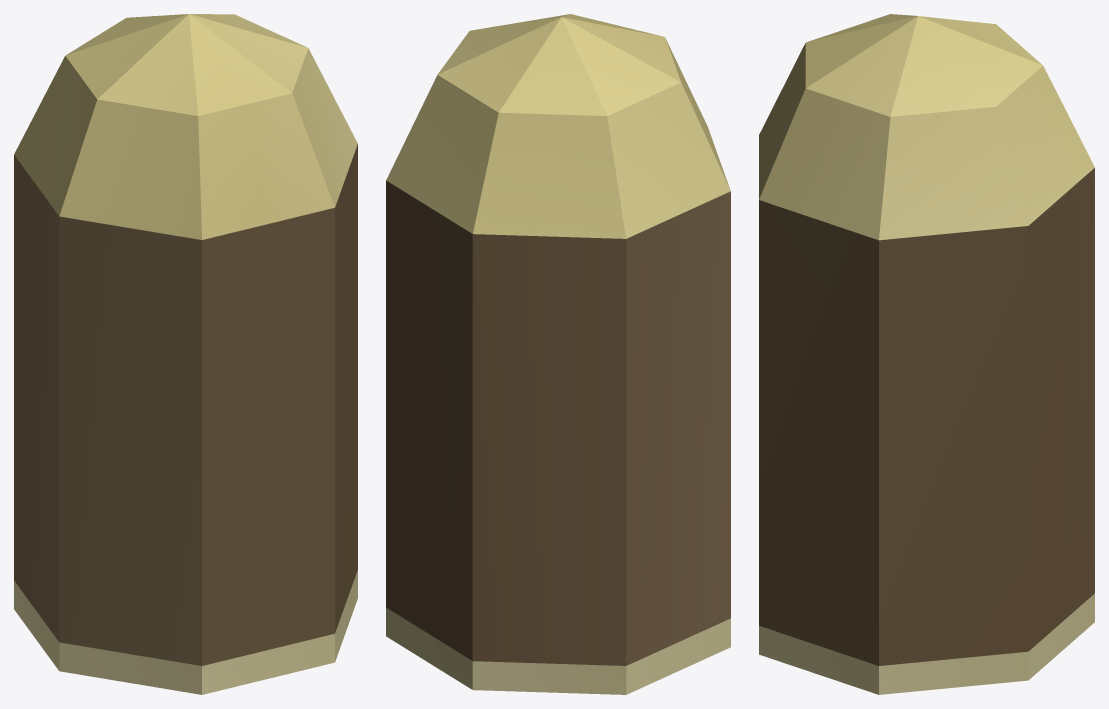
Rendered from nixie toob.fbx.
3 renders of one model, left to right at view 1: azimuth 30°, elevation 25°; view 2: azimuth 150°, elevation 25°; view 3: azimuth 270°, elevation 25°, orthographic.
Parts seen in each view (by area): view 1: clear part_selection, Bottom; view 2: clear part_selection, Bottom; view 3: clear part_selection, Bottom.
Part boxes in pixels (box(x1,y1,x2,y2)): clear part_selection: box(14, 144, 357, 665); Bottom: box(14, 14, 357, 694); clear part_selection: box(386, 180, 730, 665); Bottom: box(386, 14, 730, 694); clear part_selection: box(759, 168, 1094, 665); Bottom: box(759, 14, 1094, 694).
Size of the model in its own units: 27.05 by 52.5 by 26.37.
2 materials, 2 textured.
